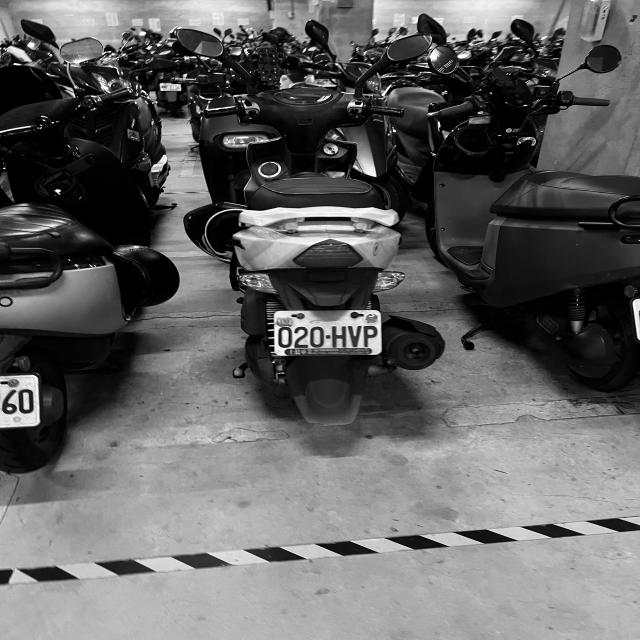-: (326, 334, 330, 340)
0: (18, 389, 36, 414), (278, 326, 292, 348), (310, 326, 324, 346)
2: (294, 326, 310, 348)
6: (2, 388, 18, 414)
H: (331, 325, 348, 347)
P: (362, 324, 377, 348)
V: (348, 325, 363, 347)
plate: (274, 313, 380, 357)
